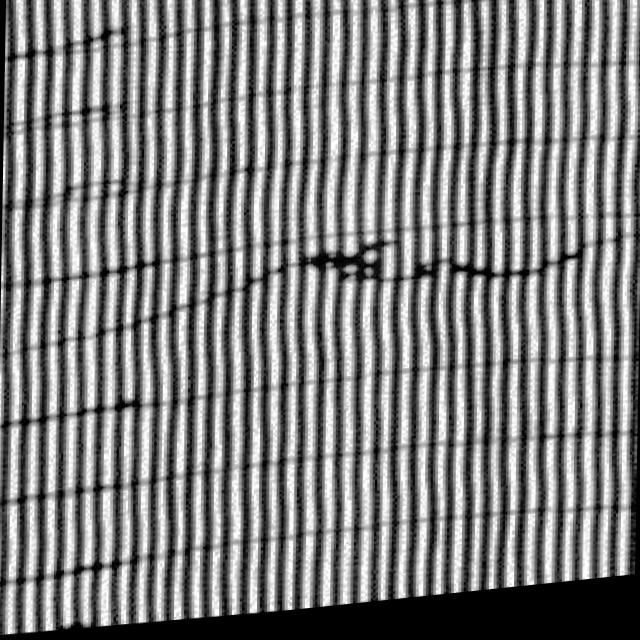Stitch: (202, 172, 635, 362)
